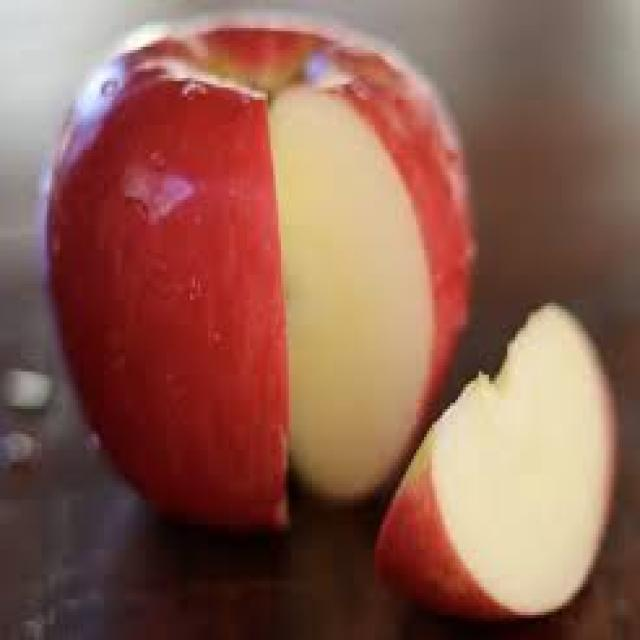Used Apple: (51, 20, 472, 529), (377, 307, 620, 619)
